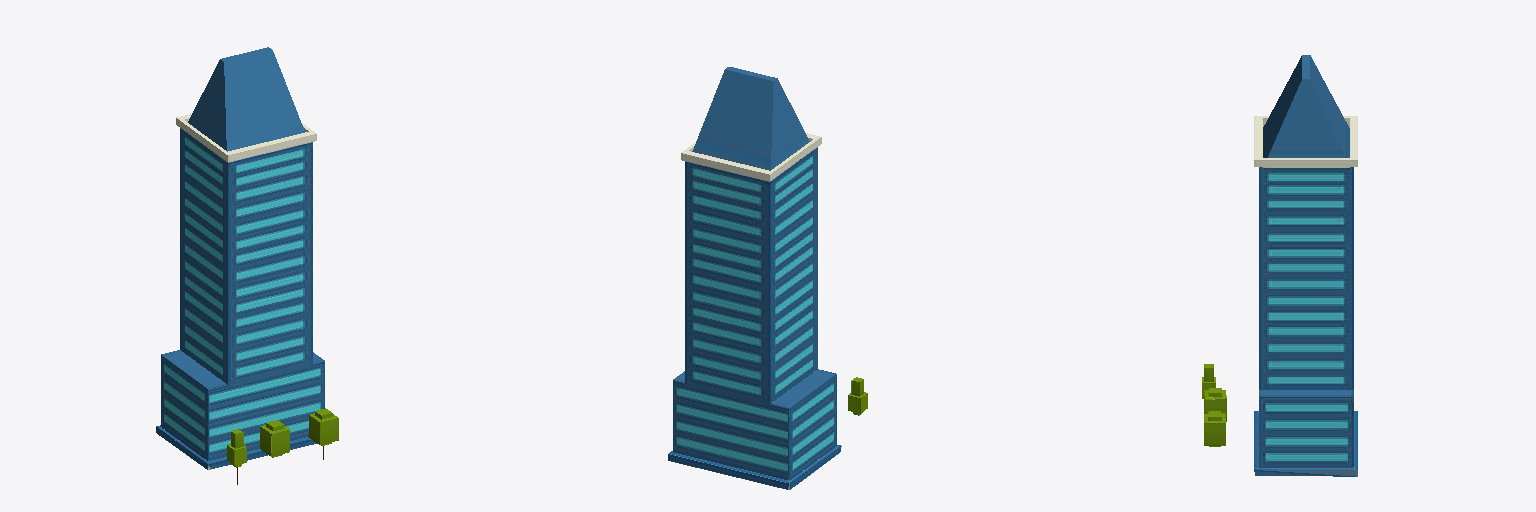
The picture shows the model from 3 angles: view 1: azimuth 30°, elevation 25°; view 2: azimuth 150°, elevation 25°; view 3: azimuth 270°, elevation 25°; orthographic projection.
Visible parts, largest first — view 1: business_2tower_2lvl_Mesh.167, Tree_3_499_2.028_Mesh.308, Tree_3_499_2.027_Mesh.307, Tree_2_3_61.045_Mesh.306; view 2: business_2tower_2lvl_Mesh.167, Tree_2_3_61.045_Mesh.306; view 3: business_2tower_2lvl_Mesh.167, Tree_3_499_2.028_Mesh.308, Tree_3_499_2.027_Mesh.307.
Boxes of the visible parts, <box> form: business_2tower_2lvl_Mesh.167: <box>156,47,324,469</box>; Tree_3_499_2.028_Mesh.308: <box>308,408,338,459</box>; Tree_3_499_2.027_Mesh.307: <box>260,420,289,457</box>; Tree_2_3_61.045_Mesh.306: <box>227,429,246,484</box>; business_2tower_2lvl_Mesh.167: <box>668,67,841,489</box>; Tree_2_3_61.045_Mesh.306: <box>848,377,867,415</box>; business_2tower_2lvl_Mesh.167: <box>1254,55,1357,476</box>; Tree_3_499_2.028_Mesh.308: <box>1204,411,1225,446</box>; Tree_3_499_2.027_Mesh.307: <box>1204,388,1226,421</box>.
Bounding box in the file's own units: 1.5 × 4.5 × 1.67.
Materials: 3 (3 with a texture image).